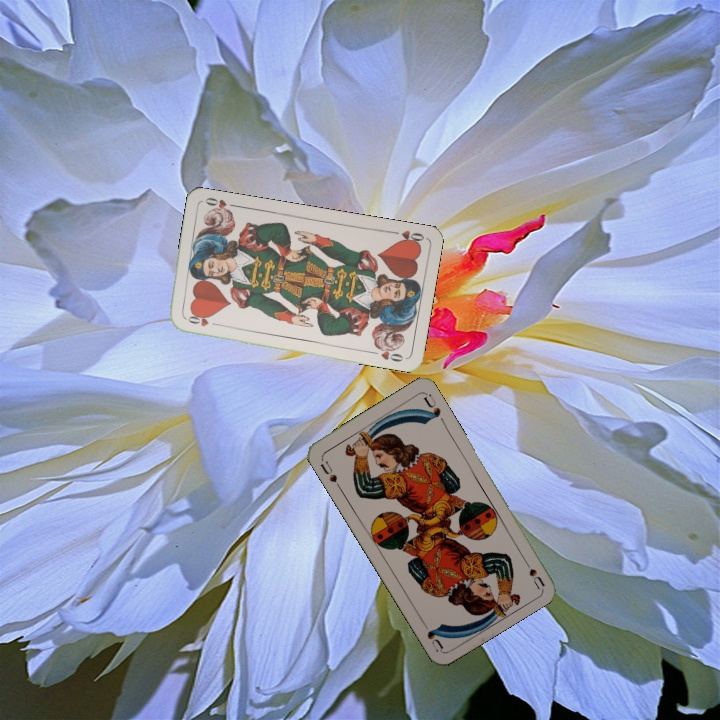HO: (387, 226, 427, 247), (181, 312, 222, 329)
SU: (518, 552, 547, 591), (316, 457, 343, 491)
